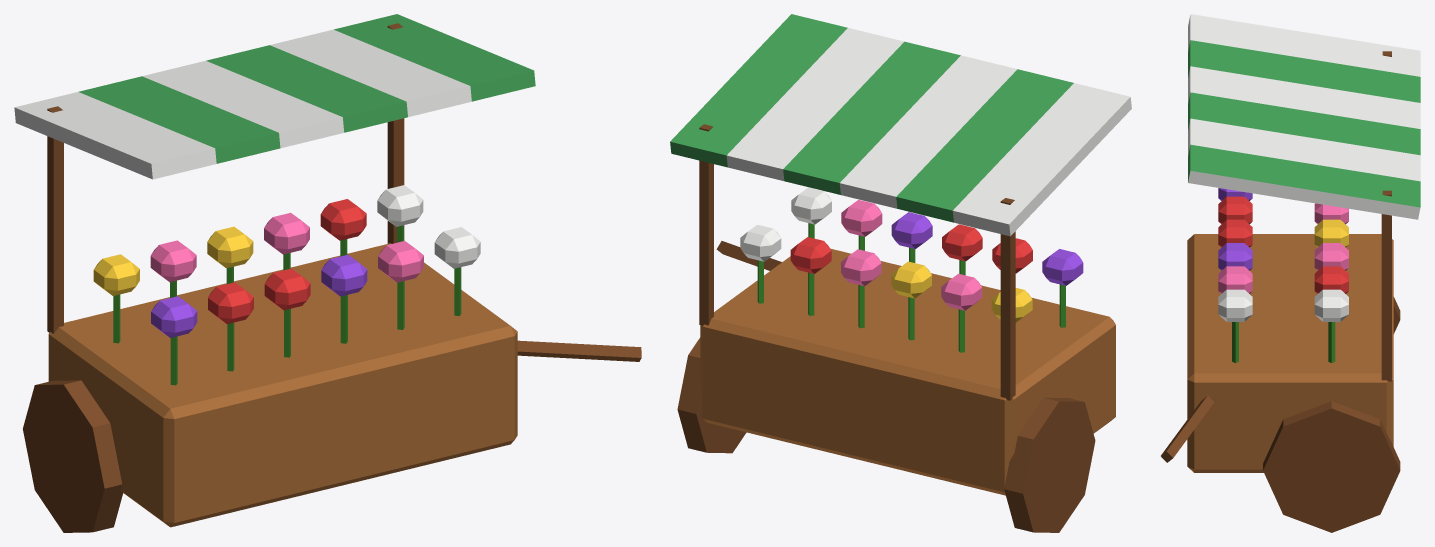
File: FlowerCart.fbx
The picture shows the model from 3 angles, left to right: view 1: azimuth 30°, elevation 25°; view 2: azimuth 150°, elevation 25°; view 3: azimuth 270°, elevation 25°; orthographic projection. The views are drawn at different scales.
Parts seen in each view (by area): view 1: FlowerCart; view 2: FlowerCart; view 3: FlowerCart.
Part boxes in pixels (<box>): FlowerCart: <box>14,14,641,532</box>; FlowerCart: <box>670,14,1131,532</box>; FlowerCart: <box>1161,14,1420,532</box>.
Bounding box in the file's own units: 6.79 × 5.79 × 3.78.
1 material, 1 textured.
